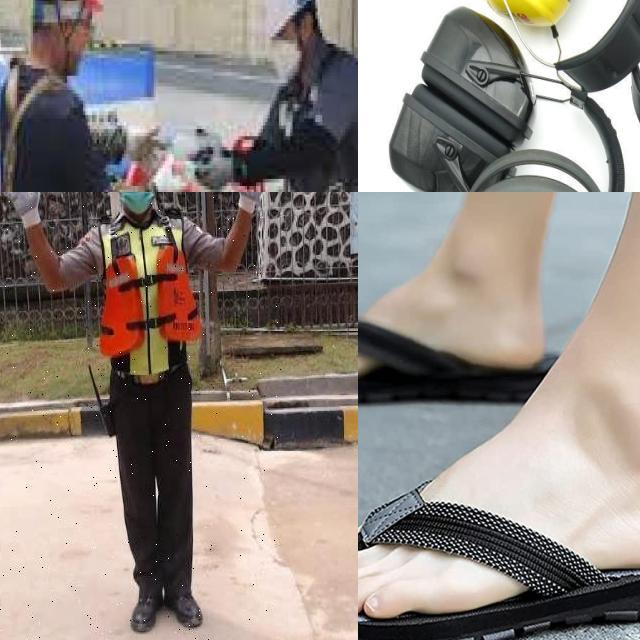Ear-protection: (418, 5, 532, 150), (385, 81, 512, 192), (470, 0, 575, 27)
Harness: (0, 58, 96, 192)
Sandals: (358, 404, 640, 640), (358, 255, 544, 392)
boots: (162, 580, 204, 635), (131, 584, 164, 635)
person: (0, 192, 286, 640)
vest: (98, 216, 203, 386)
